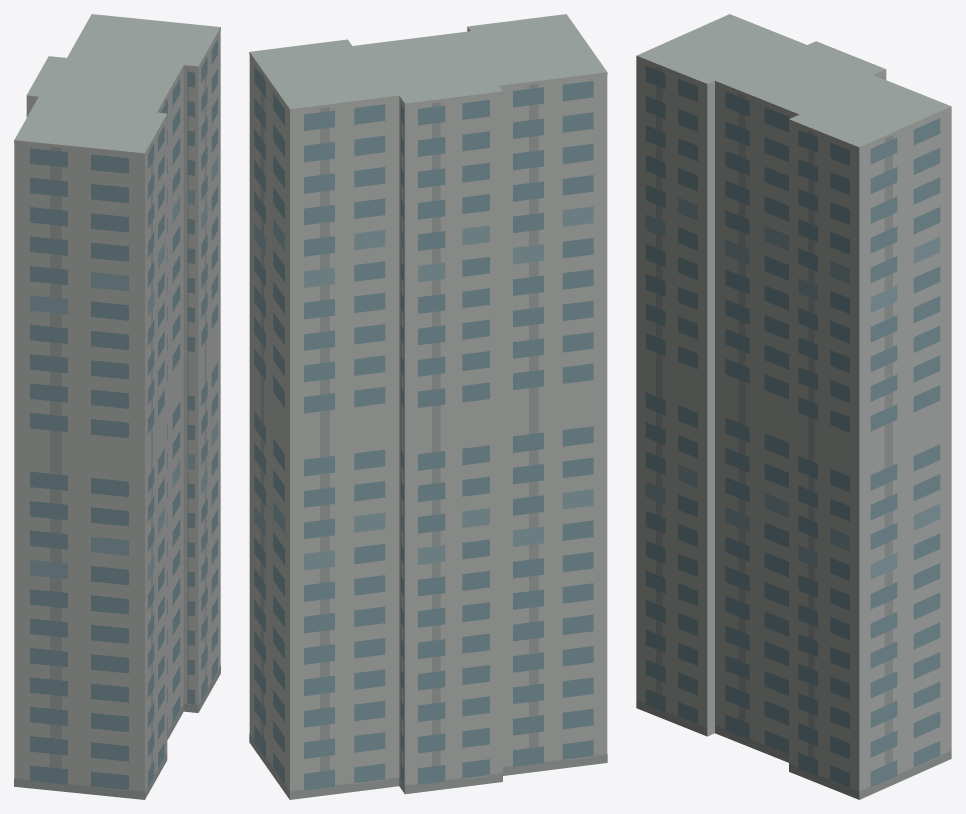
The model's file is residential-58132fa2-34a7-474c-9f87-7ad9a148be82.glb.
The picture shows the model from 3 angles, left to right: view 1: azimuth 30°, elevation 25°; view 2: azimuth 150°, elevation 25°; view 3: azimuth 270°, elevation 25°; orthographic projection. The views are drawn at different scales.
Parts seen in each view (by area): view 1: residential-58132fa2-34a7-474c-9f87-7ad9a148be82.tmp; view 2: residential-58132fa2-34a7-474c-9f87-7ad9a148be82.tmp; view 3: residential-58132fa2-34a7-474c-9f87-7ad9a148be82.tmp.
Boxes of the visible parts, <box> form: residential-58132fa2-34a7-474c-9f87-7ad9a148be82.tmp: <box>14,14,220,799</box>; residential-58132fa2-34a7-474c-9f87-7ad9a148be82.tmp: <box>249,14,607,799</box>; residential-58132fa2-34a7-474c-9f87-7ad9a148be82.tmp: <box>636,14,951,799</box>.
Bounding box in the file's own units: 25.44 × 58 × 25.39.
